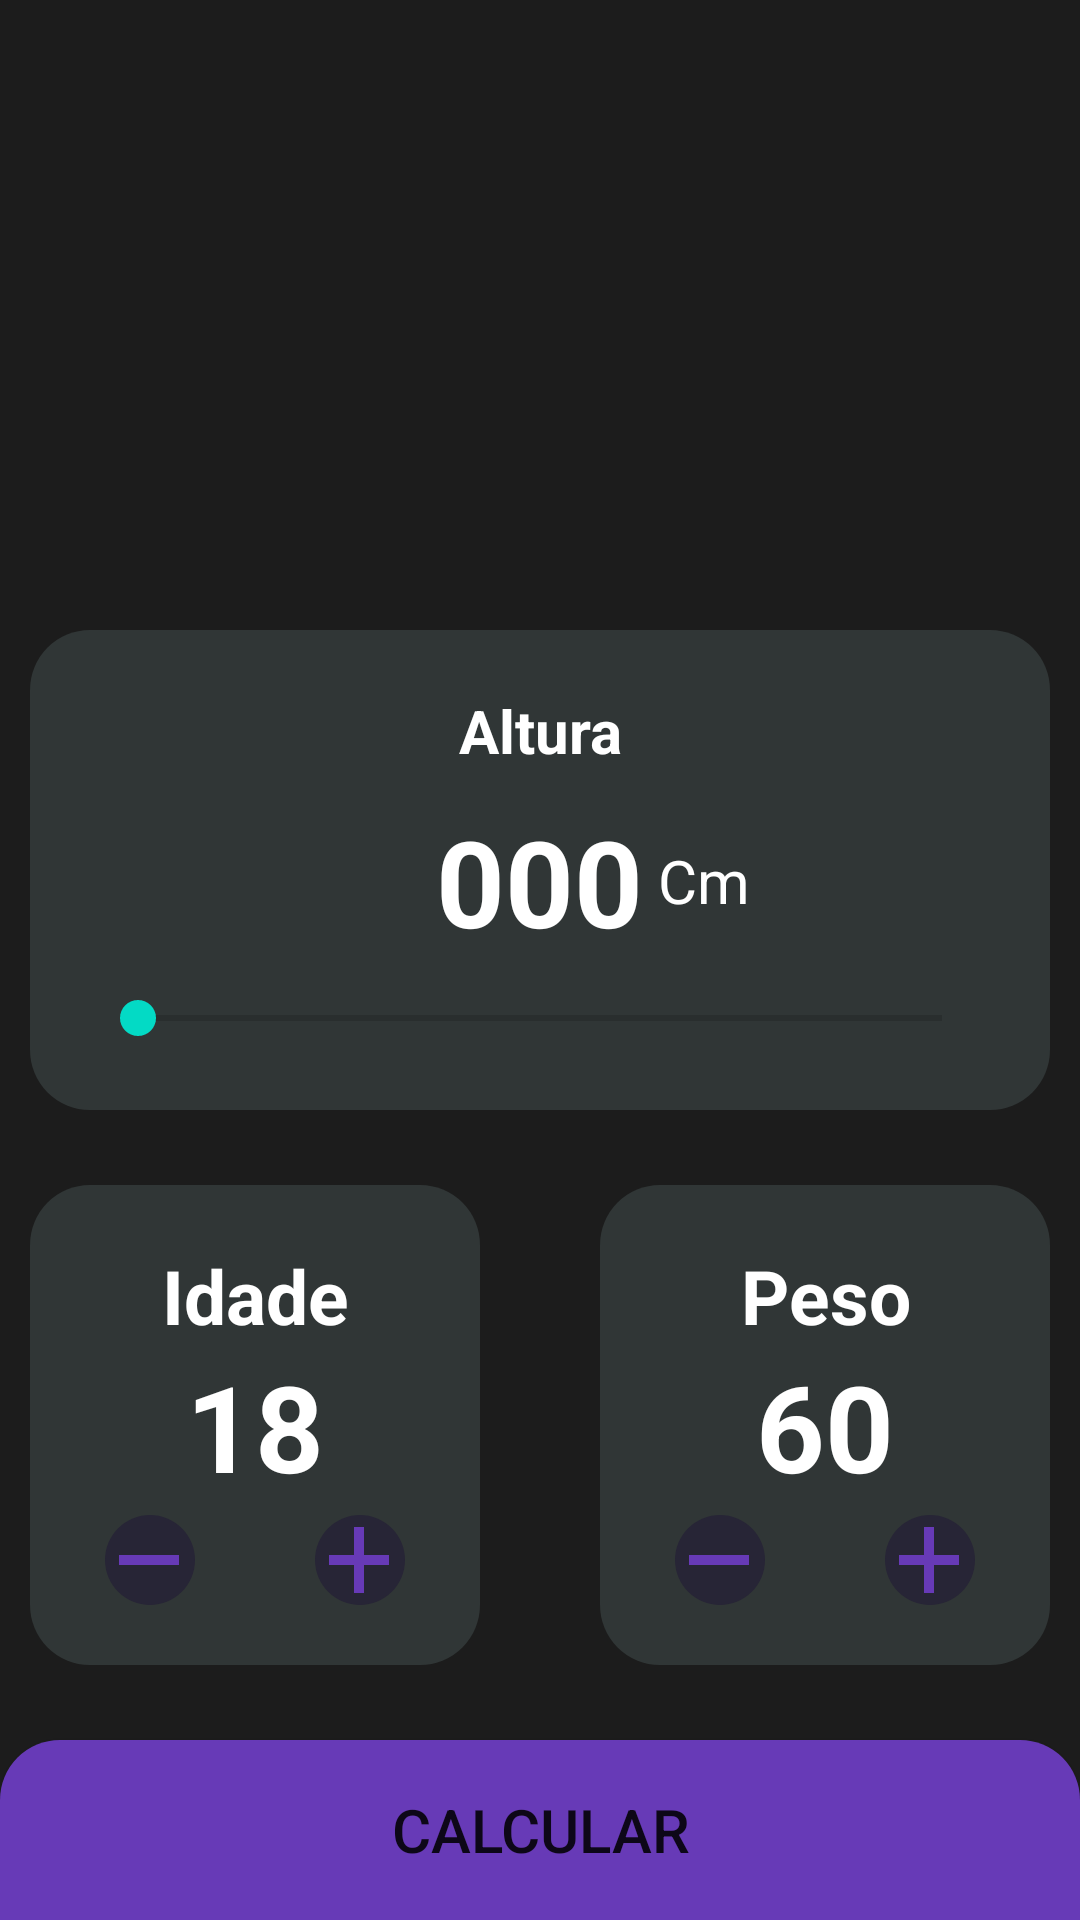

Point at icon controls on the screen. Image size 1080x1920, points as (x,y).
mais: (360,1560), (930,1560)
